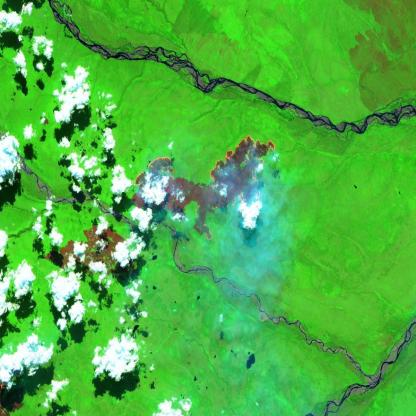fire: (126, 130, 279, 249)
